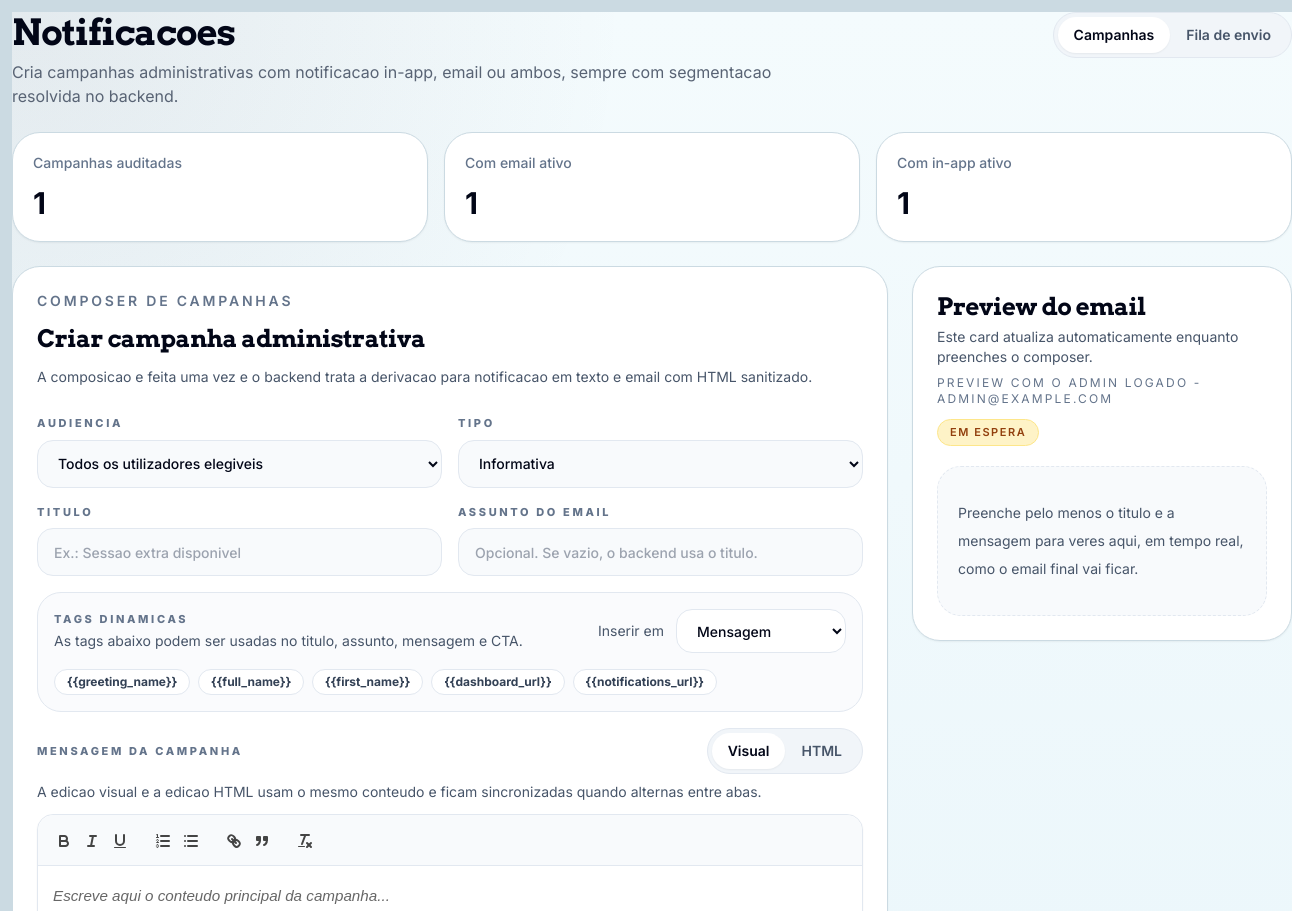
Test: AdminNotifications › shows segment filters and inserts tags into the selected field
Expected: the text "Categoria comprada" is not shown
Select "Segmento com filtros" in the dropdown showing "Todos os utilizadores elegiveis" at (240, 464), box x1=37 y1=440 x2=442 y2=488
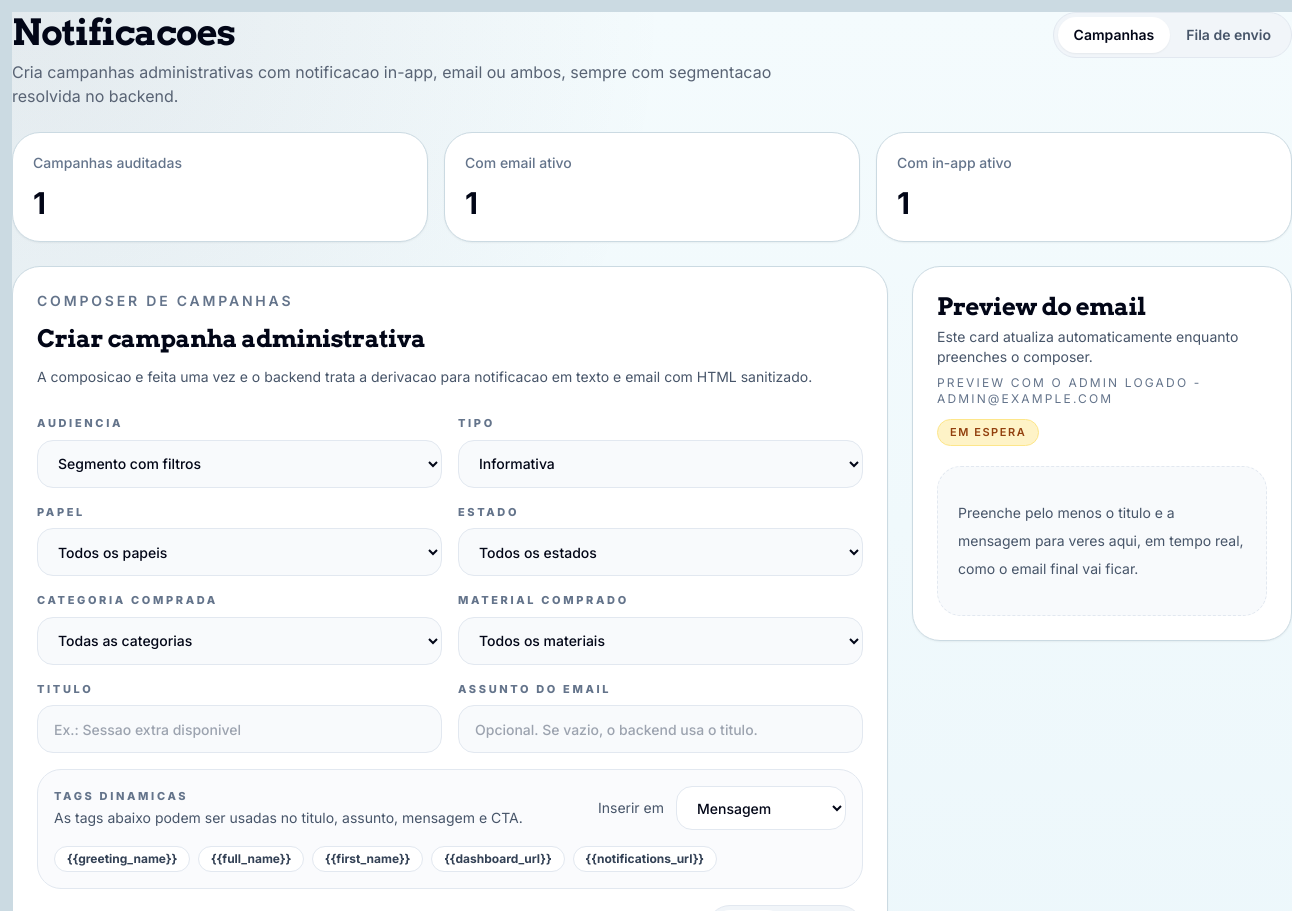
Now the text "Categoria comprada" is shown, box x1=37 y1=593 x2=218 y2=607
Select "Titulo" in the dropdown showing "Mensagem" at (761, 808), box x1=676 y1=786 x2=846 y2=830
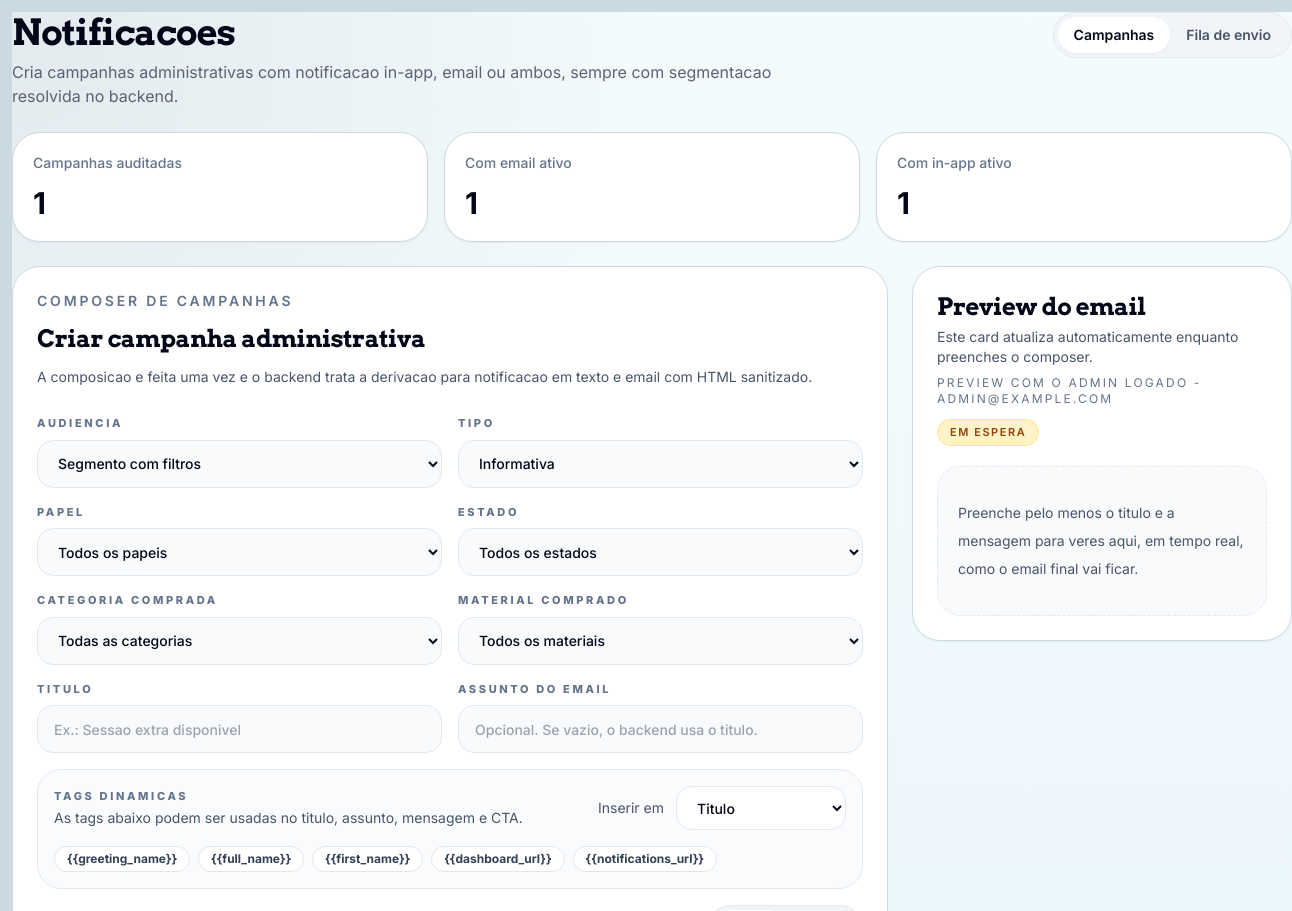
Click the button "{{first_name}}" at (368, 859), box x1=312 y1=846 x2=423 y2=872
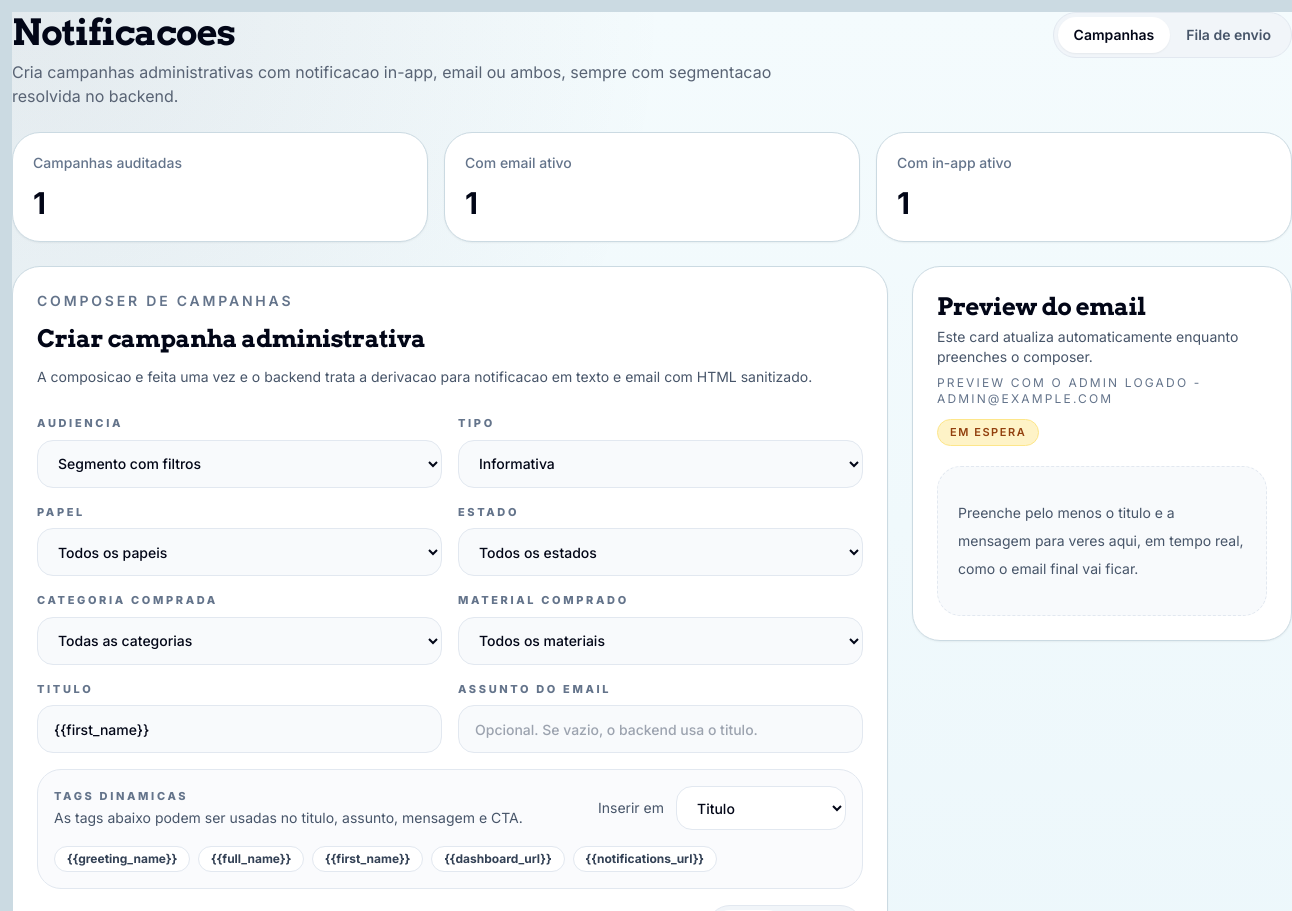
Now the field with placeholder "Ex.: Sessao extra disponivel" holds "{{first_name}}", box x1=37 y1=705 x2=442 y2=753
